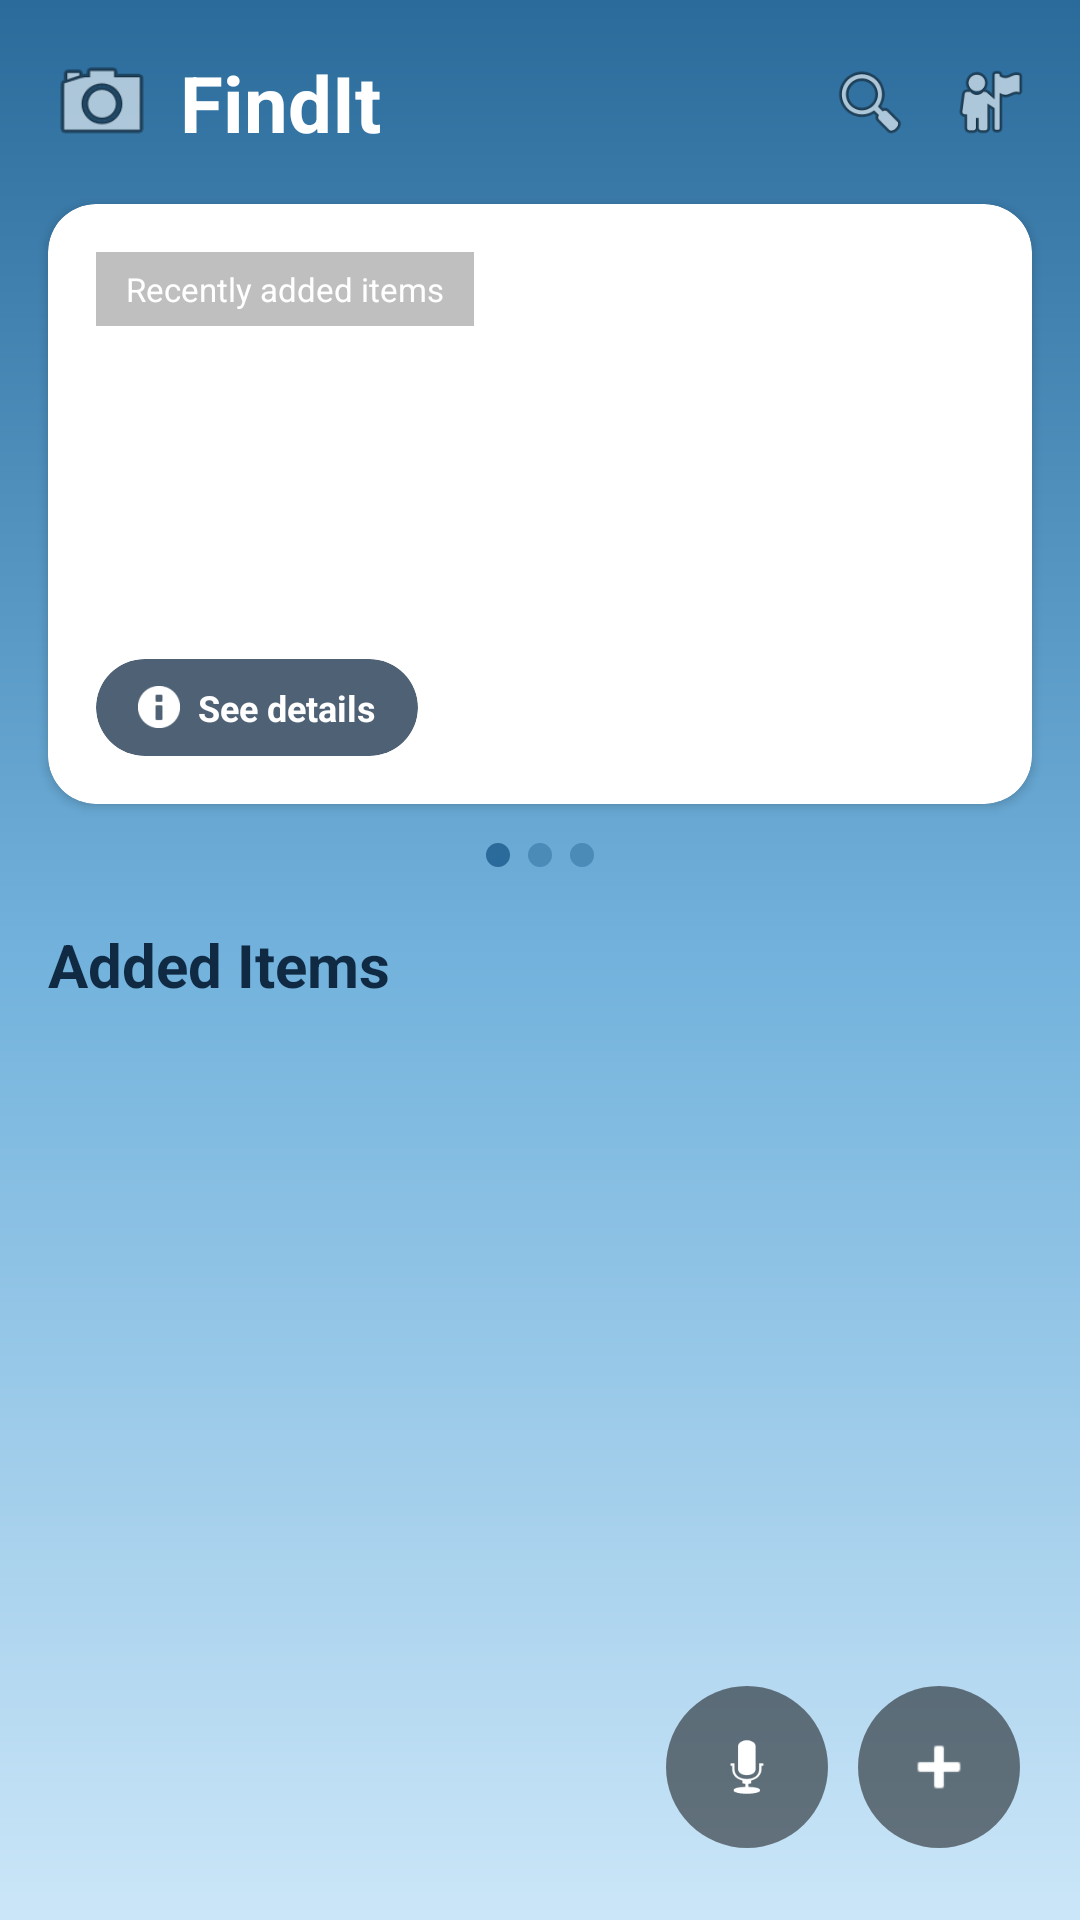

Where icons sit on this 1080*1920 app screen, as region(x1, y1, x2, y2):
Add Item: region(858, 1686, 1020, 1848)
info: region(138, 686, 180, 728)
Search: region(839, 71, 901, 133)
Voice Search: region(666, 1686, 828, 1848)
